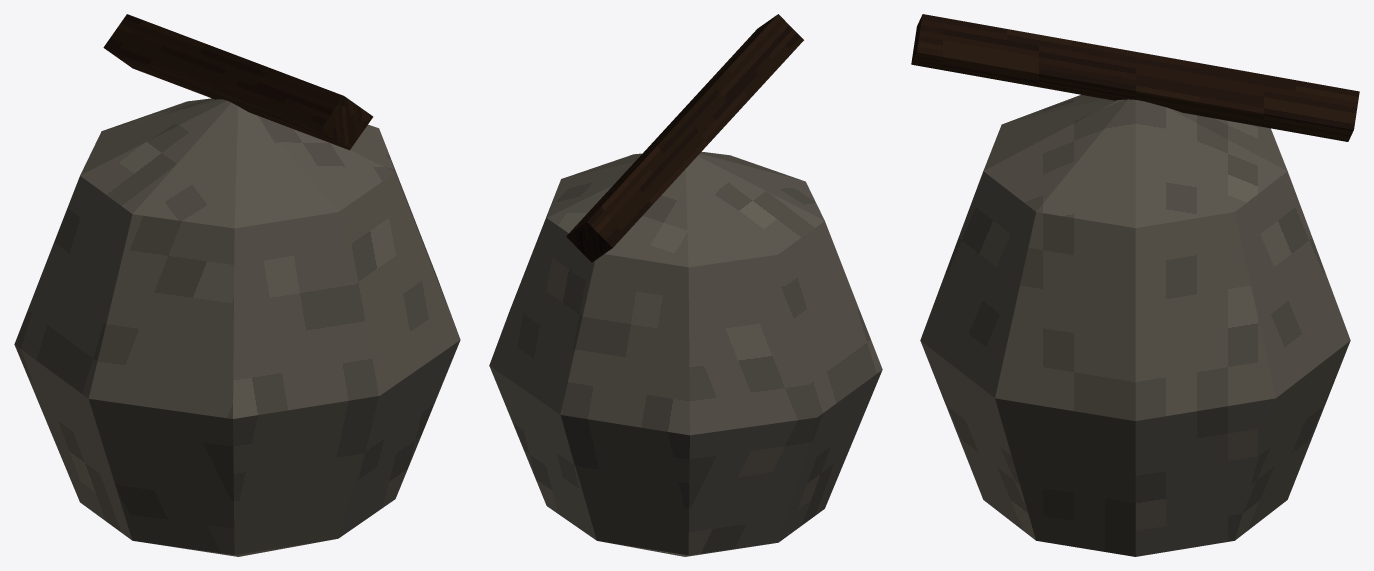
File: avispero.glb
The picture shows the model from 3 angles, left to right: view 1: azimuth 30°, elevation 25°; view 2: azimuth 150°, elevation 25°; view 3: azimuth 270°, elevation 25°; orthographic projection. The views are drawn at different scales.
Visible parts, largest first — view 1: nido, rama; view 2: nido, rama; view 3: nido, rama.
Part boxes in pixels (left/top/right/bottom): nido: left=14, top=98, right=460, bottom=556; rama: left=103, top=14, right=373, bottom=150; nido: left=489, top=151, right=882, bottom=556; rama: left=566, top=14, right=803, bottom=262; nido: left=920, top=95, right=1350, bottom=556; rama: left=911, top=14, right=1359, bottom=141.
Bounding box in the file's own units: 0.3 × 0.4 × 0.3.
1 material, 1 textured.
